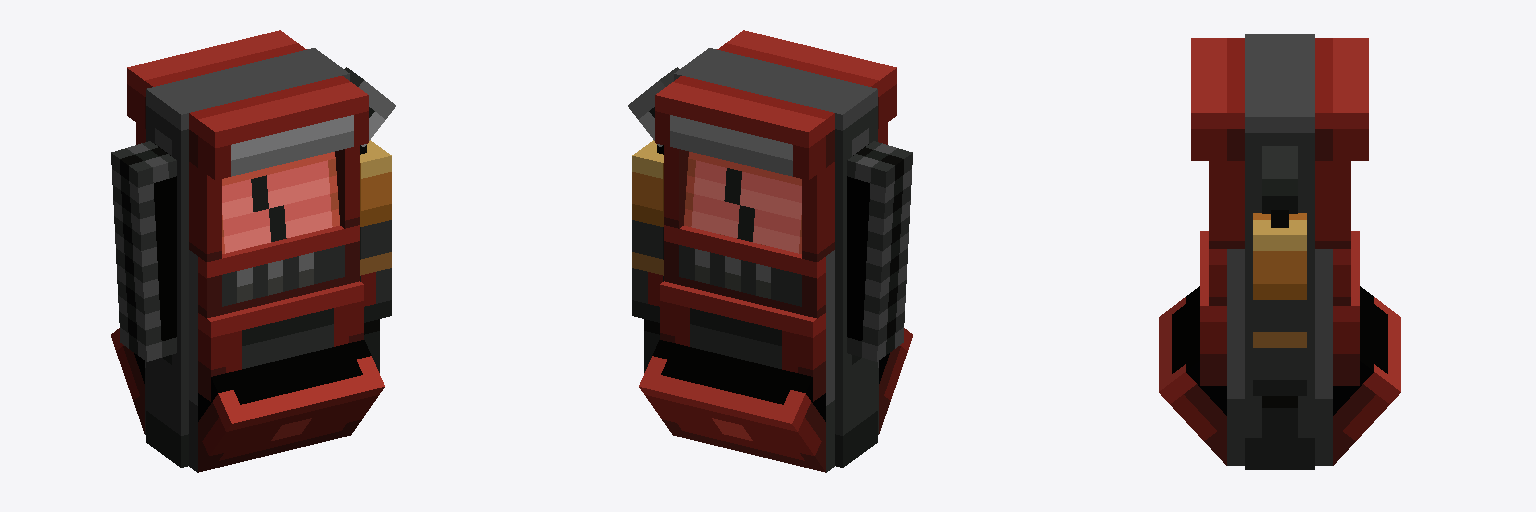
The picture shows the model from 3 angles: view 1: azimuth 30°, elevation 25°; view 2: azimuth 150°, elevation 25°; view 3: azimuth 270°, elevation 25°; orthographic projection.
Parts seen in each view (by area): view 1: screenbox, boxbottom, support, ammochain, boxmiddle, boxtop, screen, tube, gauge; view 2: screenbox, boxbottom, support, ammochain, boxmiddle, boxtop, screen, tube, gauge; view 3: support, screenbox, boxbottom, tube, boxmiddle, gauge, boxtop.
Boxes of the visible parts, x1=… form: screenbox: x1=127, y1=30, x2=368, y2=261; boxbottom: x1=111, y1=328, x2=384, y2=472; support: x1=145, y1=48, x2=349, y2=472; ammochain: x1=111, y1=141, x2=176, y2=361; boxmiddle: x1=198, y1=281, x2=363, y2=401; boxtop: x1=198, y1=225, x2=359, y2=318; screen: x1=222, y1=152, x2=339, y2=253; tube: x1=360, y1=140, x2=391, y2=372; gauge: x1=344, y1=67, x2=395, y2=154; screenbox: x1=655, y1=30, x2=896, y2=261; boxbottom: x1=639, y1=328, x2=912, y2=472; support: x1=674, y1=48, x2=878, y2=472; ammochain: x1=847, y1=141, x2=912, y2=361; boxmiddle: x1=660, y1=281, x2=825, y2=401; boxtop: x1=664, y1=225, x2=825, y2=318; screen: x1=684, y1=152, x2=801, y2=253; tube: x1=632, y1=140, x2=663, y2=372; gauge: x1=628, y1=67, x2=679, y2=154; support: x1=1227, y1=34, x2=1332, y2=469; screenbox: x1=1191, y1=38, x2=1368, y2=248; boxbottom: x1=1159, y1=286, x2=1400, y2=465; tube: x1=1253, y1=213, x2=1306, y2=455; boxmiddle: x1=1200, y1=231, x2=1359, y2=385; gauge: x1=1262, y1=146, x2=1297, y2=227; boxtop: x1=1209, y1=249, x2=1350, y2=305.
Bounding box in the file's own units: 1.07 × 1.38 × 0.8569.
4 materials, 3 textured.